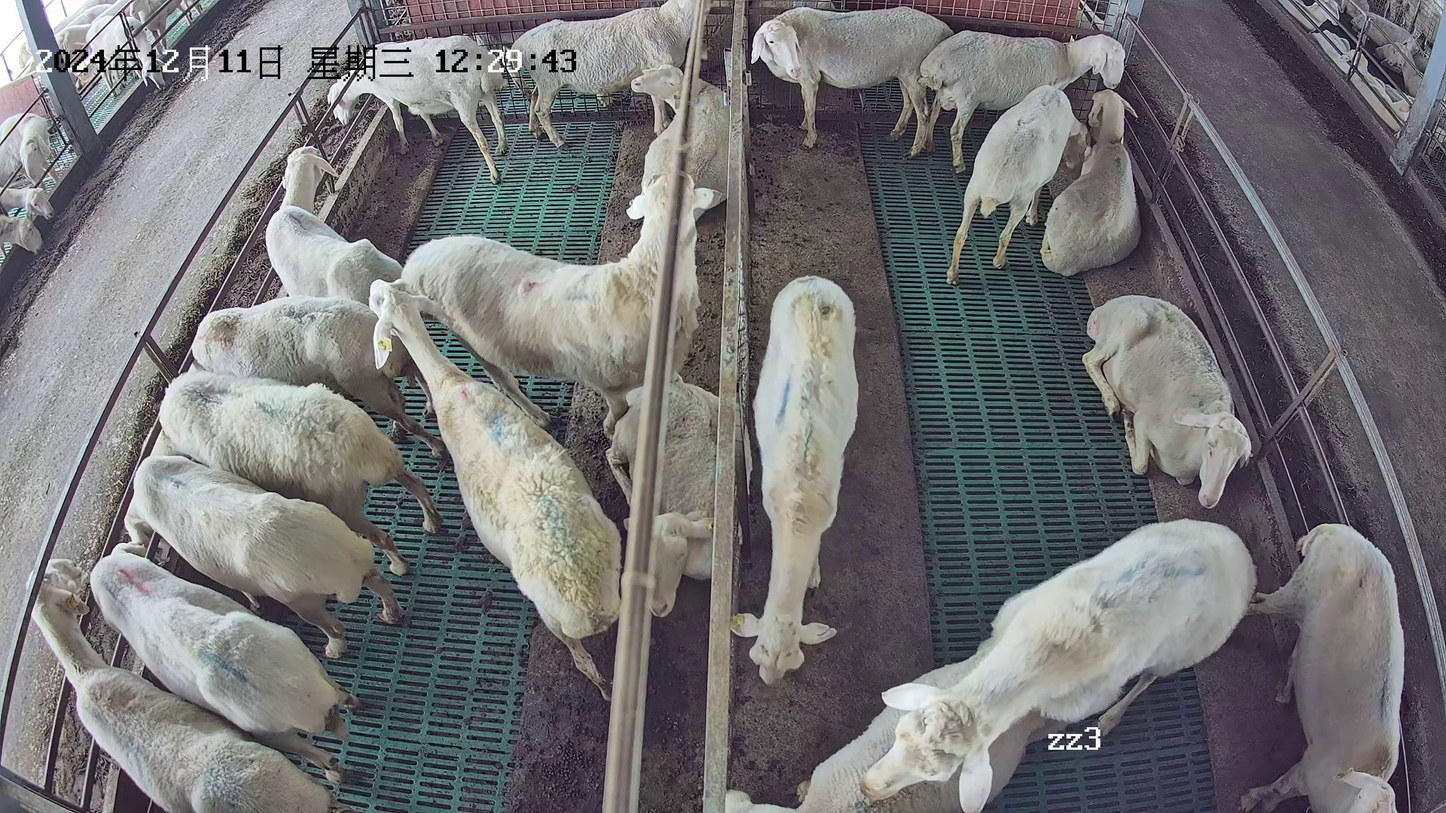Smounting: (785, 515, 1258, 813)
mounted: (789, 651, 1048, 813)
